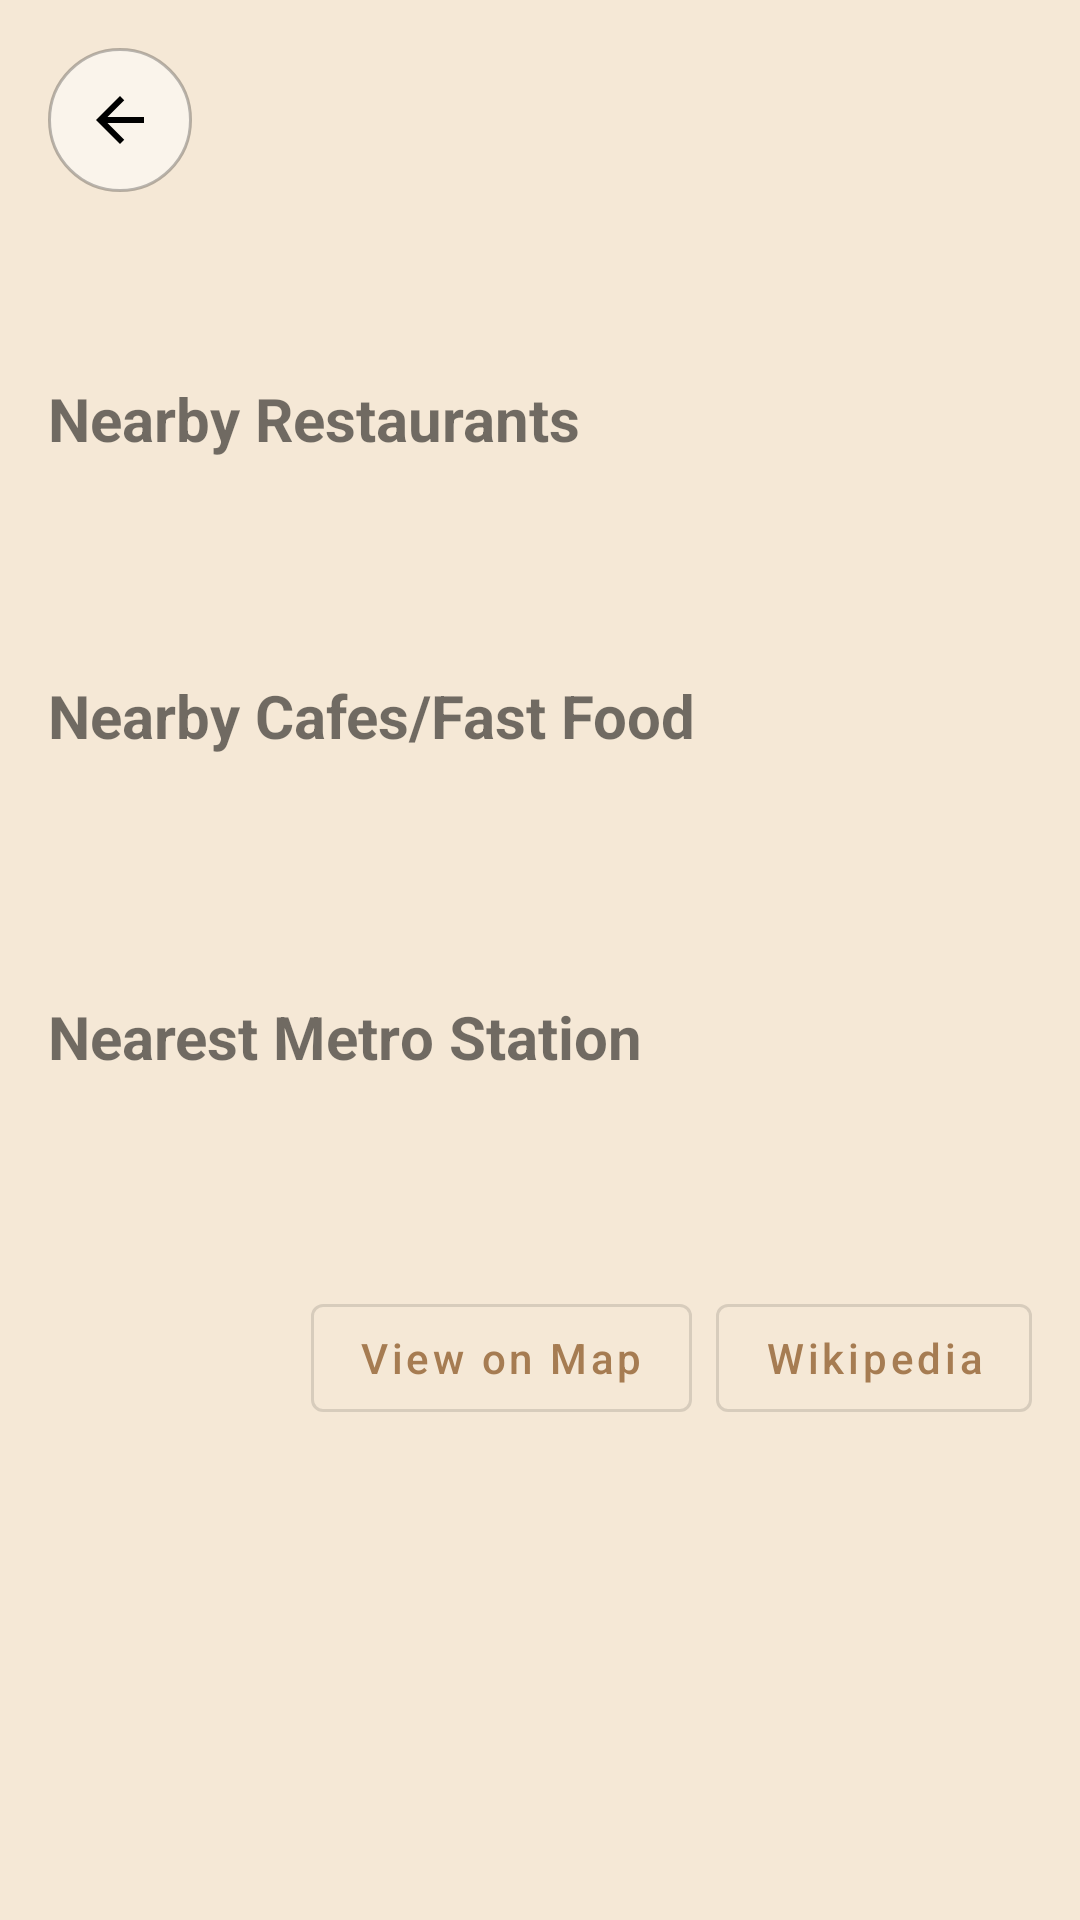

Icon click points for this 1080px x 1920px phone screenshot, format [x,y]:
Back: [120,120]
